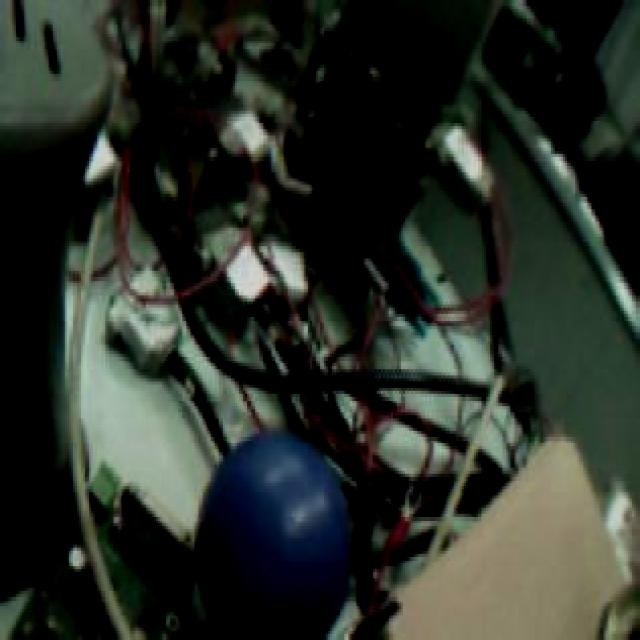BallPurple: (198, 433, 352, 637)
